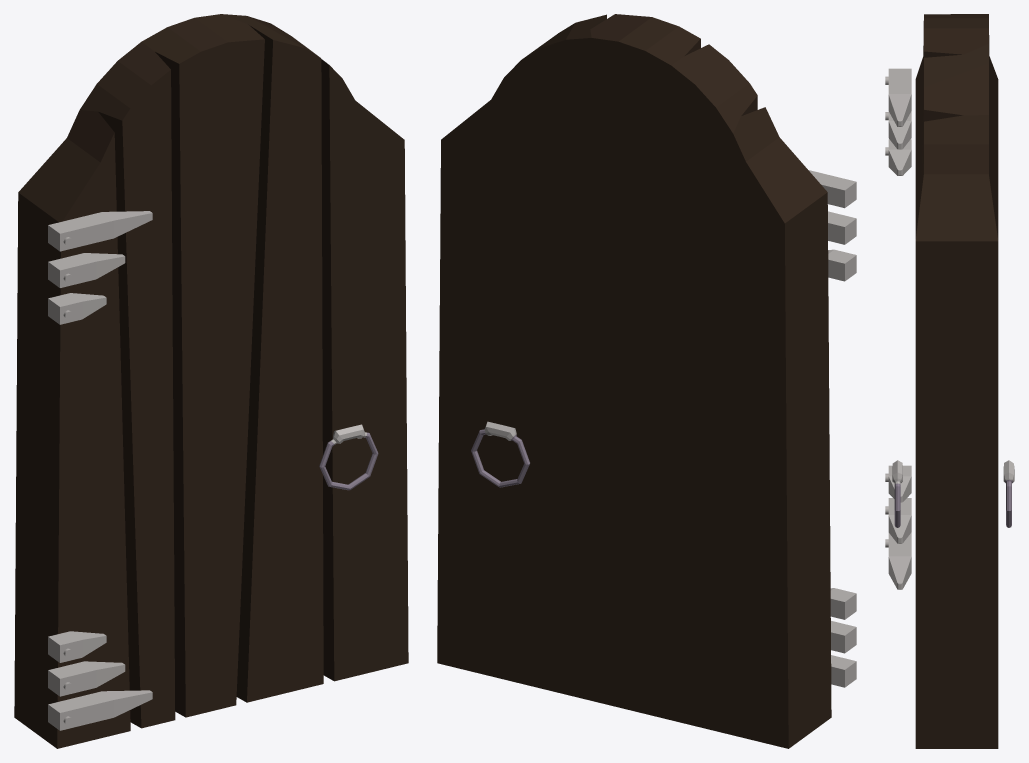
Rendered from door-0.glb.
The picture shows the model from 3 angles, left to right: view 1: azimuth 30°, elevation 25°; view 2: azimuth 150°, elevation 25°; view 3: azimuth 270°, elevation 25°; orthographic projection. The views are drawn at different scales.
Parts seen in each view (by area): view 1: door0; view 2: door0; view 3: door0.
Boxes of the visible parts, <box> form: door0: <box>14,14,408,748</box>; door0: <box>437,14,856,748</box>; door0: <box>885,14,1014,748</box>.
Size of what is drawn, in the model's own units: 1.11 by 1.94 by 0.3548.
2 materials, 2 textured.
